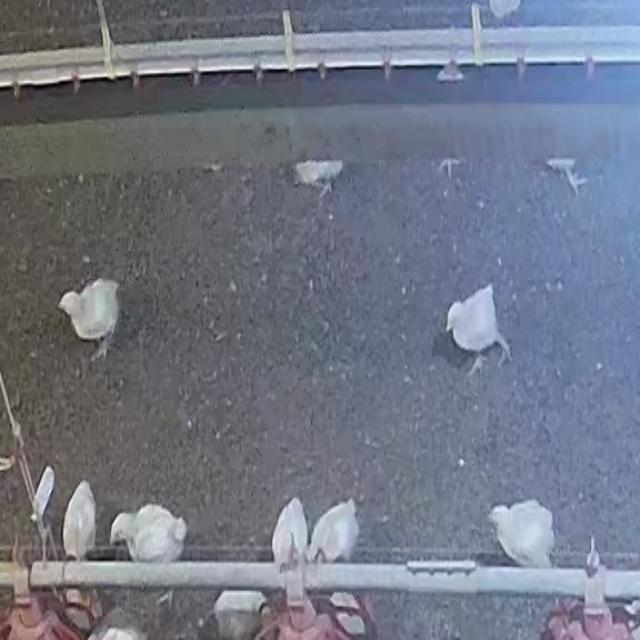chicken: (441, 277, 507, 368), (62, 270, 122, 356), (491, 502, 560, 568), (112, 502, 189, 560), (307, 490, 364, 560), (213, 588, 280, 635), (60, 484, 101, 556), (270, 489, 308, 562)
